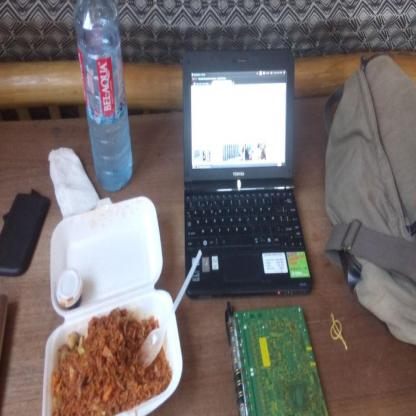board: (178, 55, 316, 300), (72, 0, 132, 191)
